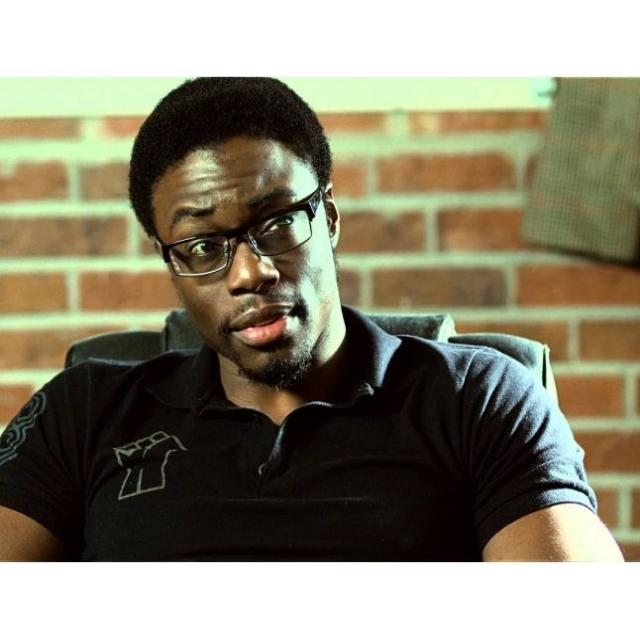human: (0, 76, 626, 562)
